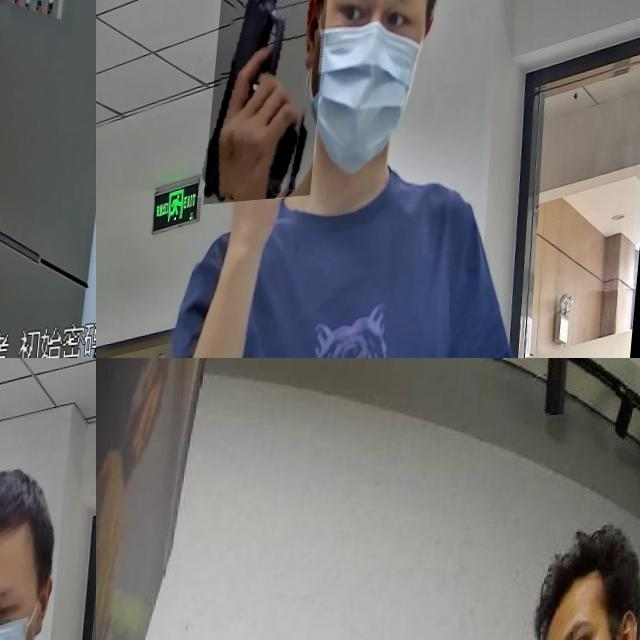gun-knife-thesis - v11 Yolov5 augmented: (210, 0, 338, 208)
